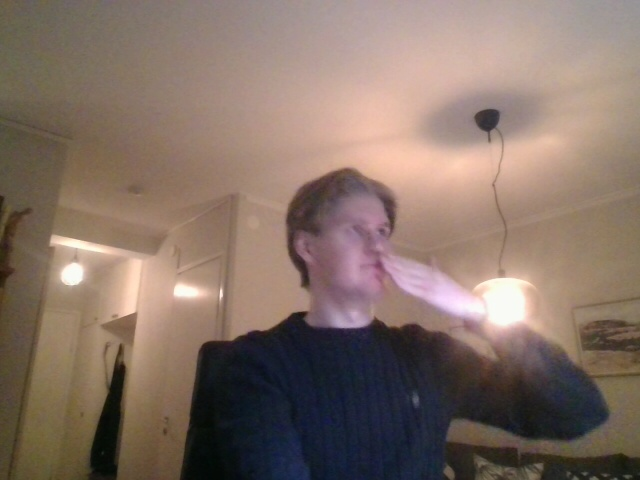ThankYou: (360, 253, 476, 318)
